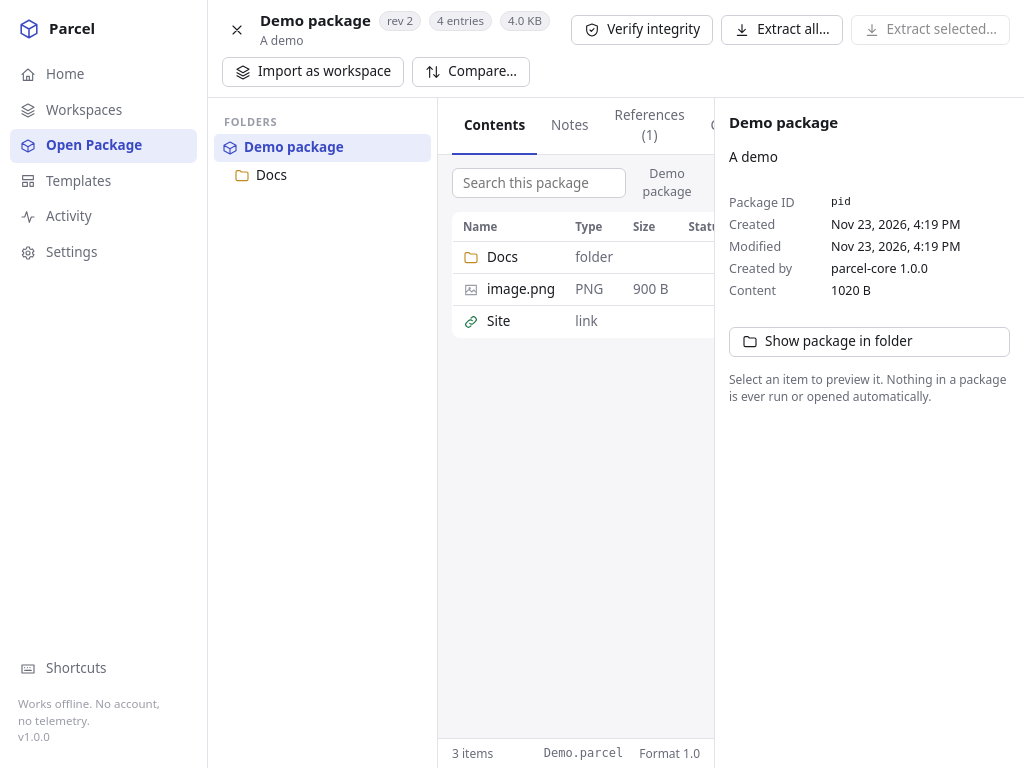
Scenario: package explorer › verifies integrity and reports success
Click the button "Verify integrity" at (642, 30), box [571,15,713,45]
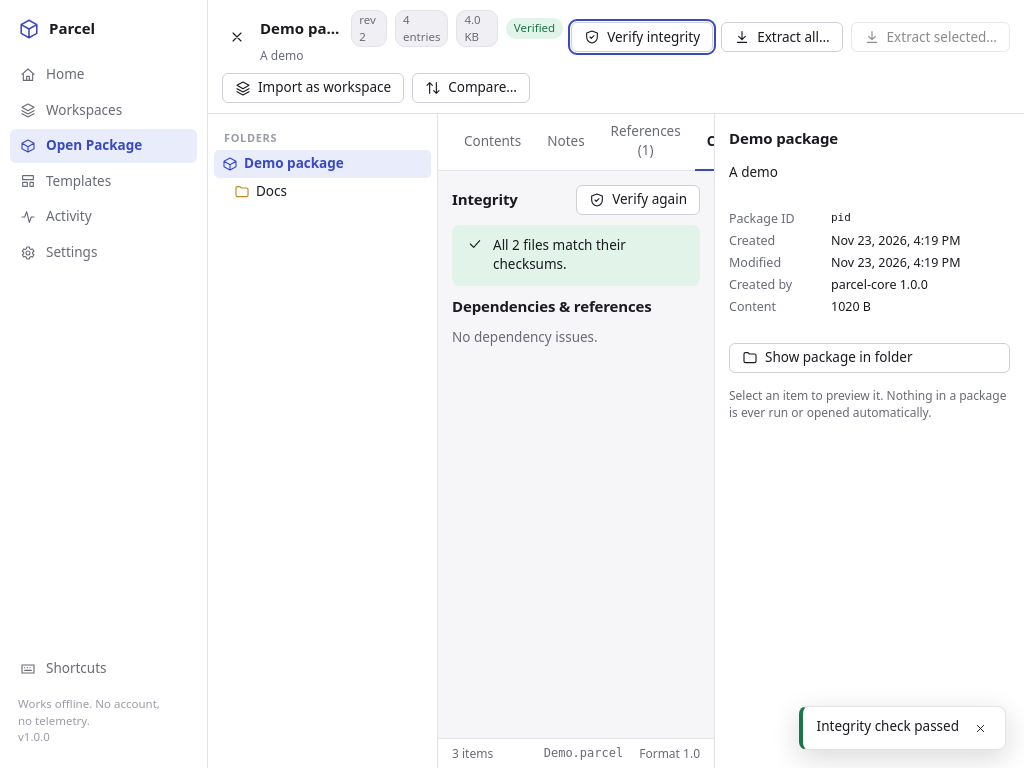
Result: the text "All 2 files match their checksums." is shown at [493,236,626,274]
Result: the text "Verified" is shown at [506,18,563,39]
